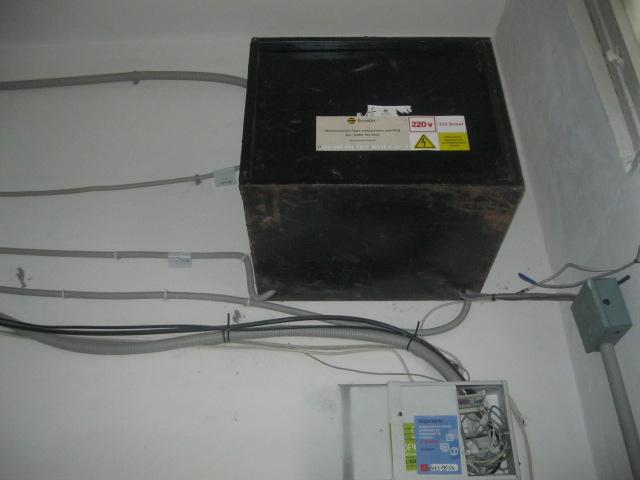shta-9m: (228, 21, 532, 310)
